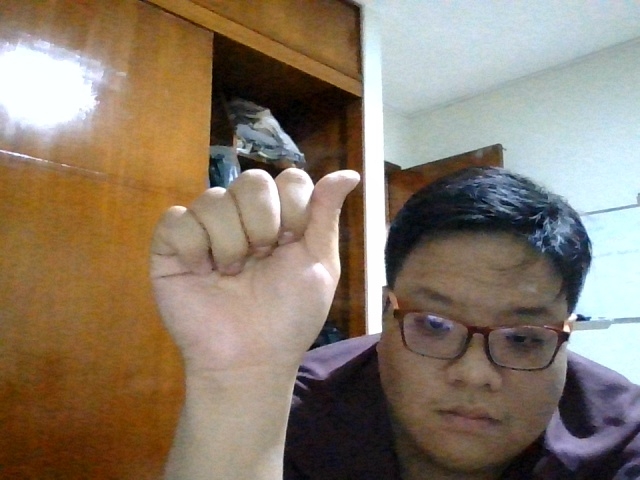a: (144, 167, 364, 370)
